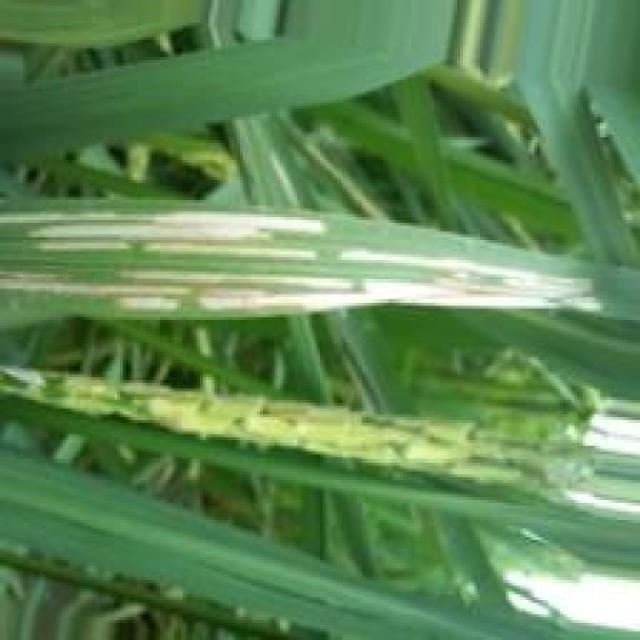Rice_Hispa: (0, 246, 597, 313), (0, 208, 331, 257)
